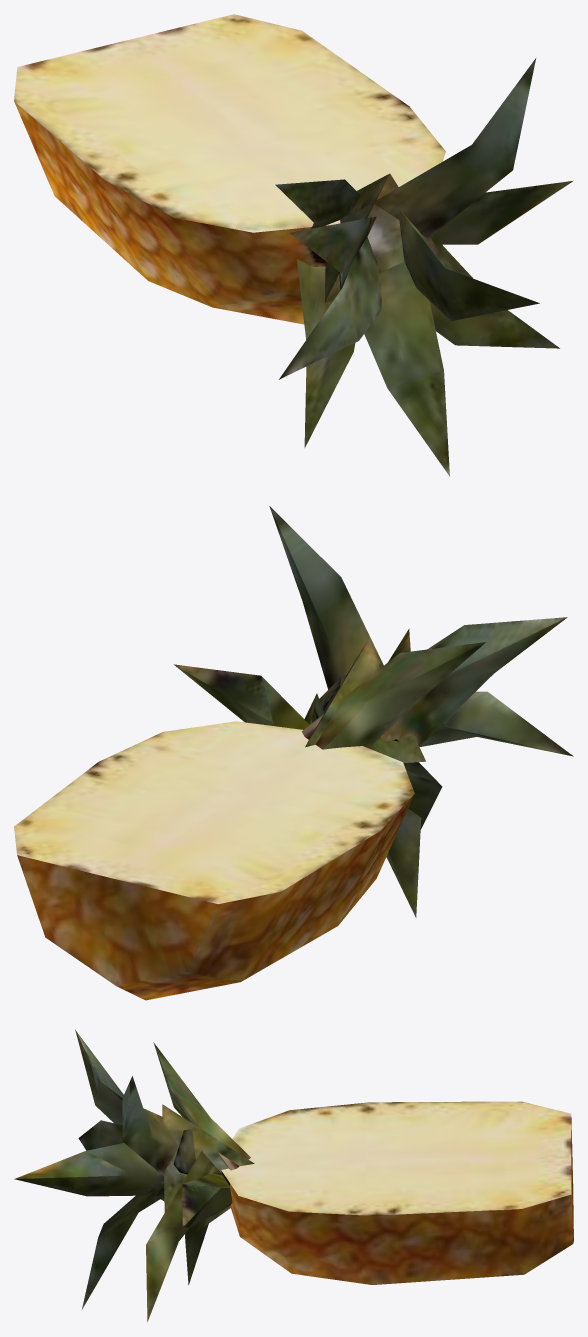
3 views of the same model, one above another, from view 1: azimuth 30°, elevation 25°; view 2: azimuth 150°, elevation 25°; view 3: azimuth 270°, elevation 25° (orthographic). The views are drawn at different scales.
Parts seen in each view (by area): view 1: Pineapple_01002_Foods_0; view 2: Pineapple_01002_Foods_0; view 3: Pineapple_01002_Foods_0.
Boxes of the visible parts, x1,y1,x2,y2 form: Pineapple_01002_Foods_0: (14, 14, 573, 476); Pineapple_01002_Foods_0: (14, 506, 573, 1000); Pineapple_01002_Foods_0: (14, 1030, 573, 1321).
Bounding box in the file's own units: 0.3244 × 0.3159 × 0.5659.
1 material, 1 textured.
